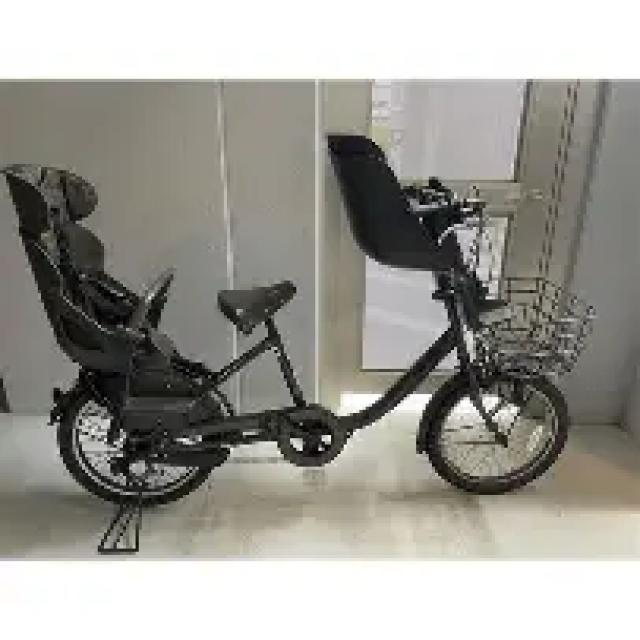basket: (461, 275, 600, 379)
childseat: (2, 156, 200, 432), (329, 131, 497, 331)
